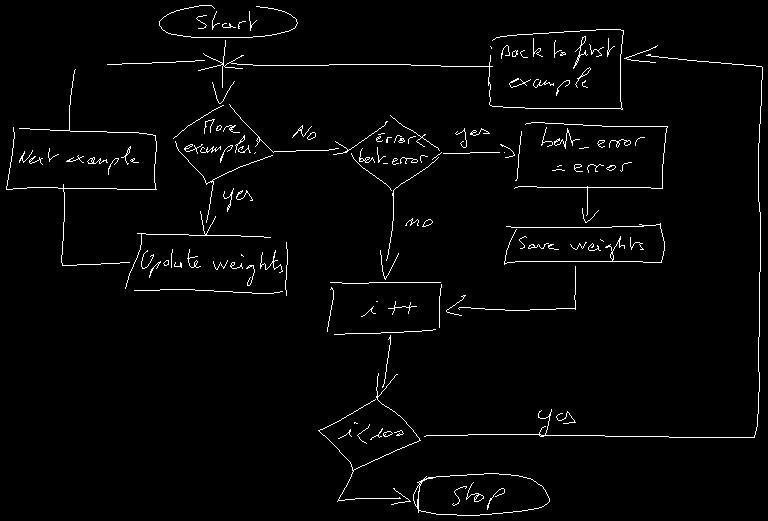arrow: (424, 45, 762, 437), (69, 53, 222, 129), (446, 266, 575, 315), (61, 184, 129, 265), (224, 55, 492, 68), (337, 470, 410, 504), (380, 190, 398, 279), (212, 40, 234, 103), (376, 335, 397, 397), (274, 141, 348, 154), (443, 144, 514, 157), (200, 180, 215, 235), (582, 186, 598, 222)
decision: (173, 104, 273, 184), (318, 396, 420, 470), (344, 115, 441, 190)
process: (488, 29, 623, 109), (514, 122, 667, 188), (125, 233, 287, 295), (6, 127, 156, 189), (504, 223, 664, 264), (327, 282, 441, 334)
terminator: (413, 473, 549, 515), (159, 5, 297, 37)
text: (501, 36, 614, 95), (141, 249, 282, 285), (541, 127, 644, 172), (19, 146, 138, 174), (184, 119, 259, 162), (519, 236, 643, 260), (359, 133, 427, 164), (452, 482, 504, 509), (338, 422, 403, 443), (196, 11, 256, 30), (538, 409, 575, 436), (361, 301, 416, 316), (223, 188, 252, 211), (455, 128, 489, 147), (292, 125, 315, 139), (405, 218, 432, 226)
